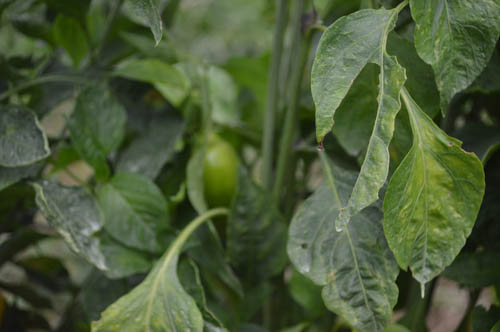ChiliPepper: (190, 141, 237, 215)
